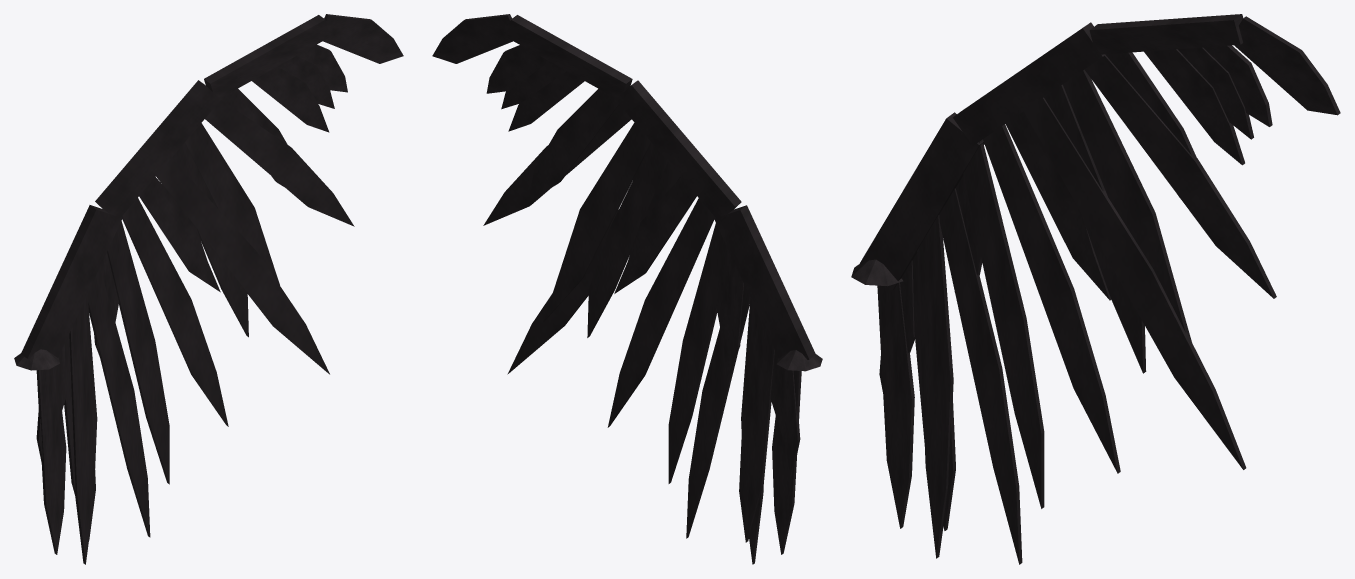
File: bound_wing_black.obj
3 views of the same model, side by side, from view 1: azimuth 30°, elevation 25°; view 2: azimuth 150°, elevation 25°; view 3: azimuth 330°, elevation 25° (orthographic). The views are drawn at different scales.
Visible parts, largest first — view 1: bound_wing_black; view 2: bound_wing_black; view 3: bound_wing_black.
Boxes of the visible parts, box(x1,y1,x2,y2) form: bound_wing_black: box(14, 14, 403, 564); bound_wing_black: box(432, 14, 822, 564); bound_wing_black: box(851, 14, 1340, 564).
Bounding box in the file's own units: 2.1 × 2.54 × 0.225.
